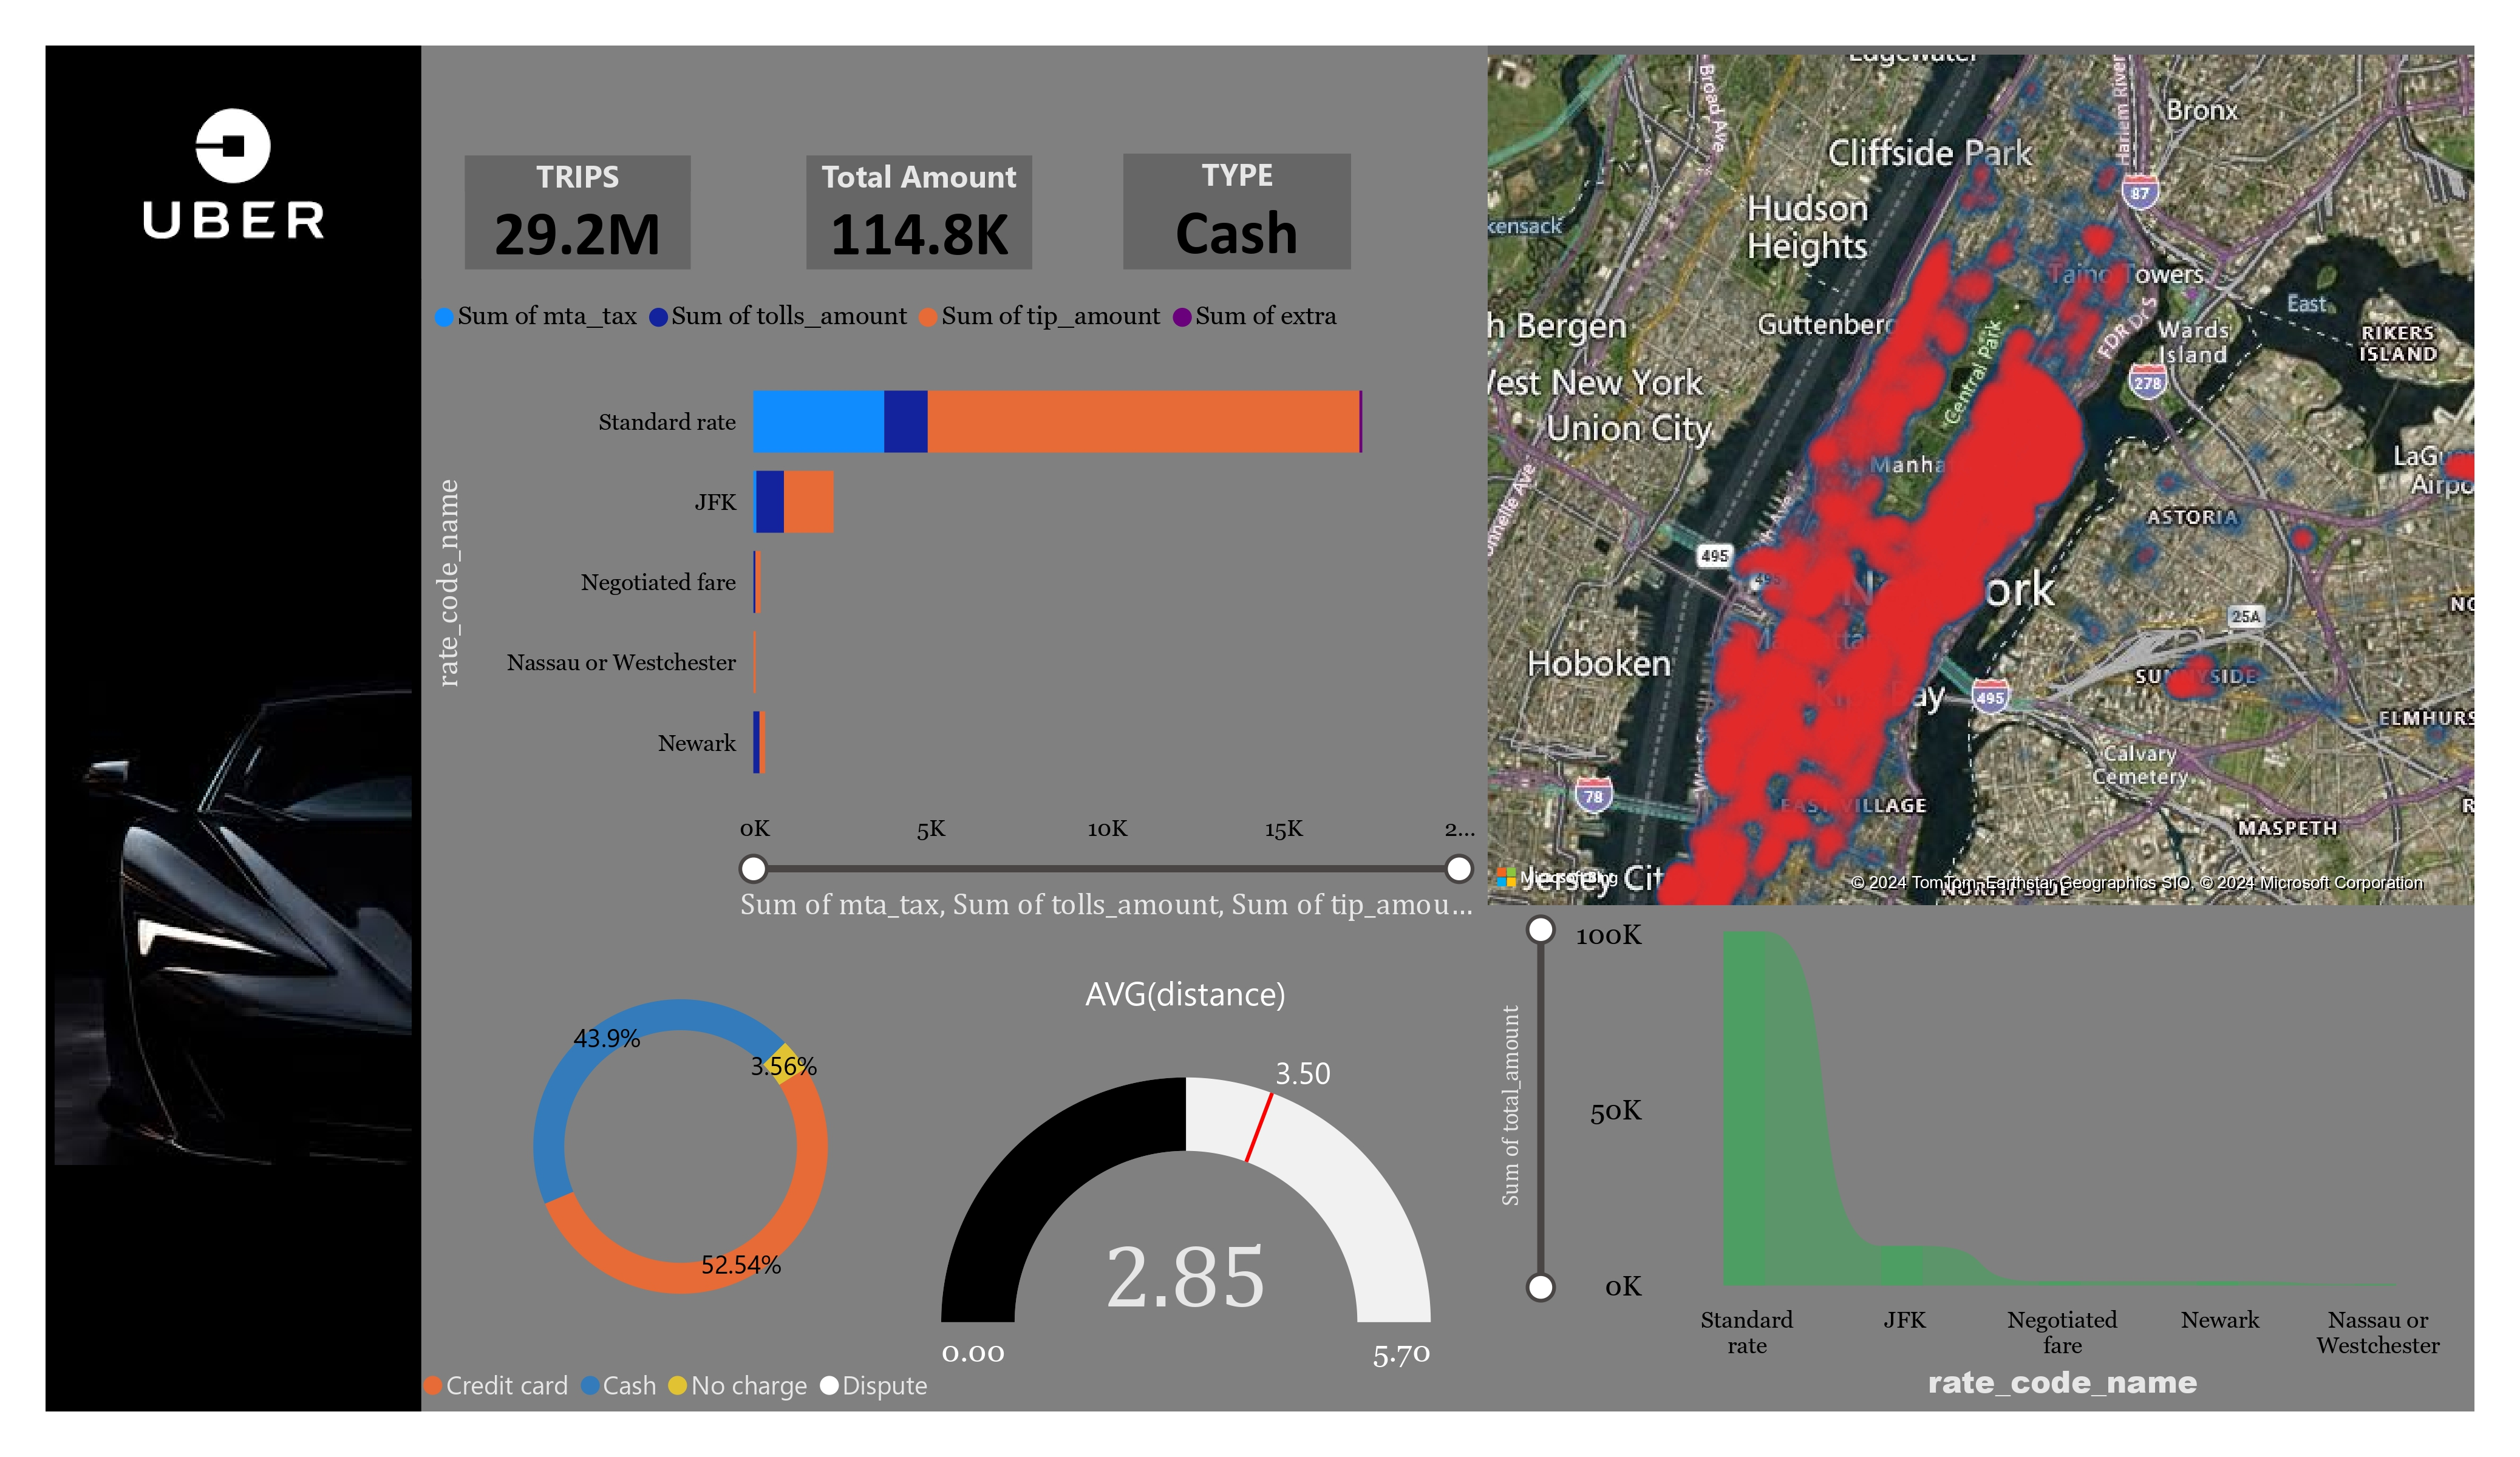

Layout of this report page (visuals, bound fields, positions):
{"tool":"powerbi","page":{"name":"Page 1","canvas":[1280,720],"ordinal":0},"visuals":[{"type":"image","box":[0,0,197.6,134.5],"z":0},{"type":"image","box":[0,123.5,197.6,596.9],"z":1000},{"type":"card","title":"TRIPS","fields":{"Values":["Sum(public tbl_analytics.trip_id)"]},"box":[220.9,57.6,119.4,60.4],"z":2000},{"type":"card","title":"Total Amount","fields":{"Values":["Sum(public tbl_analytics.total_amount)"]},"box":[400.7,57.6,119.4,60.4],"z":3000},{"type":"card","title":"TYPE","fields":{"Values":["Min(public tbl_analytics.payment_type_name)"]},"box":[568.3,56.7,120,61.7],"z":5000},{"type":"map","title":"Location","fields":{"Y":["Sum(public tbl_analytics.pickup_latitude)"],"X":["Sum(public tbl_analytics.pickup_longitude)"],"Category":["public tbl_analytics.pickup_latitude","public tbl_analytics.pickup_longitude"]},"box":[760,0,520,453.3],"z":5001},{"type":"donutChart","fields":{"Category":["public tbl_analytics.payment_type_name"],"Y":["Avg(public tbl_analytics.fare_amount)"]},"box":[198.3,465,273.3,255],"z":5002},{"type":"gauge","title":"AVG(distance)","fields":{"Y":["Avg(public tbl_analytics.trip_distance)"]},"box":[471.7,486.7,258.3,233.3],"z":5003},{"type":"ribbonChart","fields":{"Category":["public tbl_analytics.rate_code_name"],"Y":["Sum(public tbl_analytics.total_amount)"]},"box":[760,453.3,520,266.7],"z":5004},{"type":"barChart","fields":{"Category":["public tbl_analytics.rate_code_name"],"Y":["Sum(public tbl_analytics.mta_tax)","Sum(public tbl_analytics.tolls_amount)","Sum(public tbl_analytics.tip_amount)","Sum(public tbl_analytics.extra)"]},"box":[198.6,122.9,561.4,342.9],"z":5005}]}

Visuals, with their boxes in screenshot pixels (x1, y1, x2, y2):
image: locate(46, 46, 420, 301)
image: locate(46, 280, 420, 1411)
"TRIPS" card: locate(465, 155, 691, 270)
"Total Amount" card: locate(806, 155, 1032, 270)
"TYPE" card: locate(1124, 153, 1352, 270)
"Location" map: locate(1488, 46, 2474, 906)
donutChart - public tbl_analytics.payment_type_name x Avg(public tbl_analytics.fare_amount): locate(422, 928, 941, 1411)
"AVG(distance)" gauge: locate(941, 969, 1431, 1411)
ribbonChart - public tbl_analytics.rate_code_name x Sum(public tbl_analytics.total_amount): locate(1488, 906, 2474, 1411)
barChart - public tbl_analytics.rate_code_name x Sum(public tbl_analytics.mta_tax): locate(423, 279, 1488, 929)
